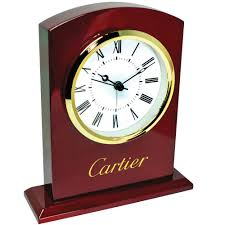alarm_clock: (18, 2, 192, 221), (30, 2, 192, 215)
